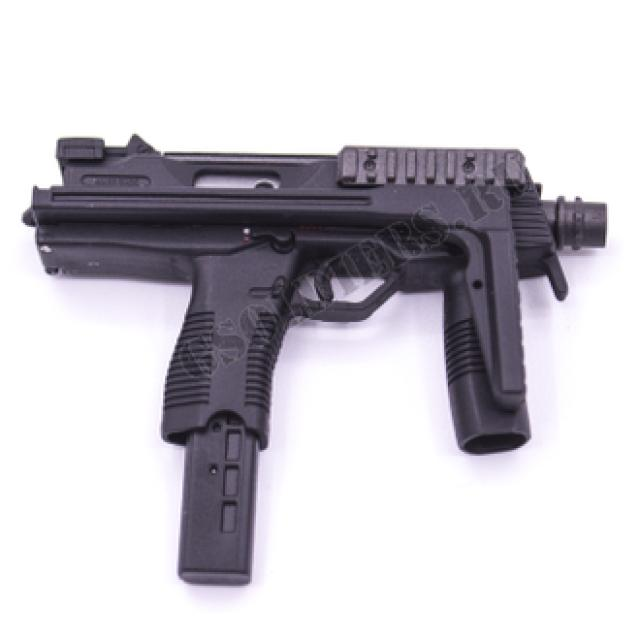firearm: (17, 126, 610, 590)
